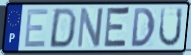D: (47, 7, 78, 50), (131, 6, 156, 48)
E: (102, 5, 132, 51), (23, 7, 50, 49)
N: (75, 6, 105, 50)
U: (157, 7, 185, 49)
